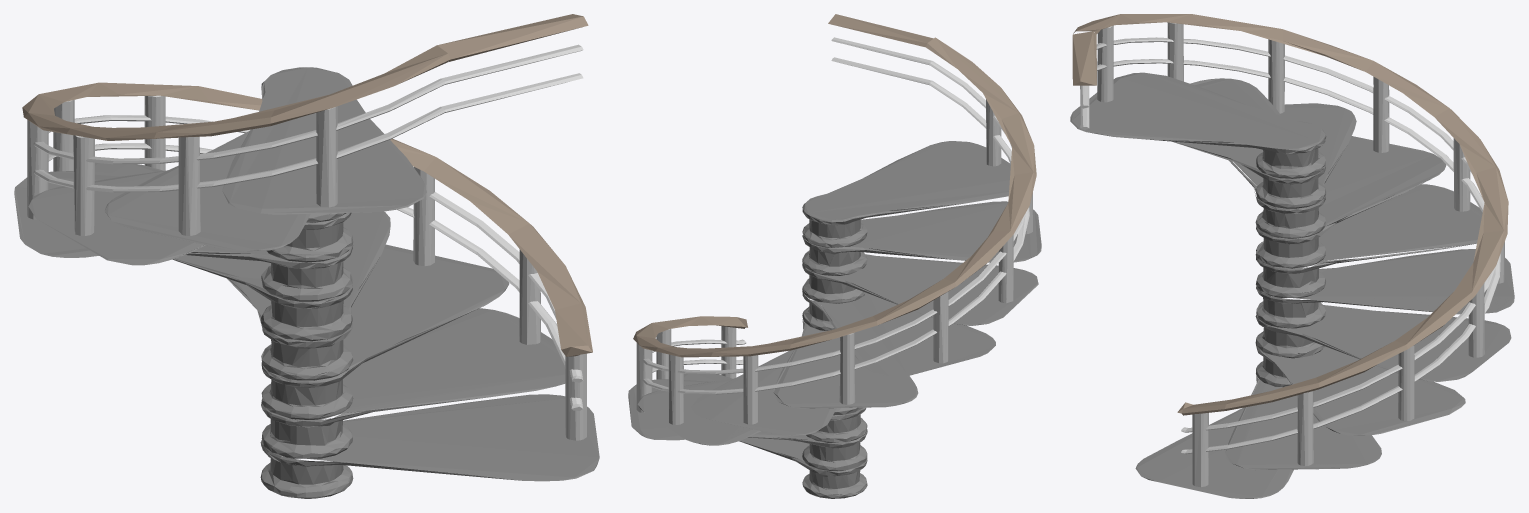
File: sh-bs0-spiral-staircase.glb
The picture shows the model from 3 angles, left to right: view 1: azimuth 30°, elevation 25°; view 2: azimuth 150°, elevation 25°; view 3: azimuth 270°, elevation 25°; orthographic projection. The views are drawn at different scales.
Visible parts, largest first — view 1: stairs_Cylinder, baluster, top_cap_Circle.002; view 2: stairs_Cylinder, baluster, top_cap_Circle.002; view 3: stairs_Cylinder, baluster, top_cap_Circle.002.
Part boxes in pixels (<box>): stairs_Cylinder: <box>14,67,599,498</box>; baluster: <box>27,44,586,440</box>; top_cap_Circle.002: <box>22,14,592,356</box>; stairs_Cylinder: <box>628,141,1041,498</box>; baluster: <box>636,37,1032,424</box>; top_cap_Circle.002: <box>633,14,1036,357</box>; stairs_Cylinder: <box>1070,72,1514,498</box>; baluster: <box>1080,22,1504,487</box>; top_cap_Circle.002: <box>1072,14,1508,415</box>.
Bounding box in the file's own units: 0.9966 × 0.9984 × 0.9966.
